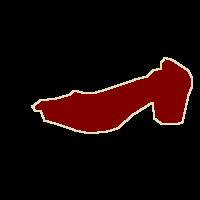shoe: (32, 58, 192, 133)
